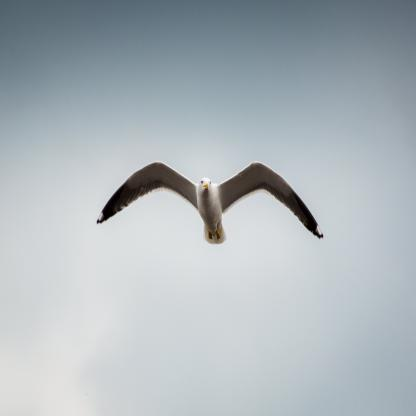bird: (94, 160, 324, 247)
